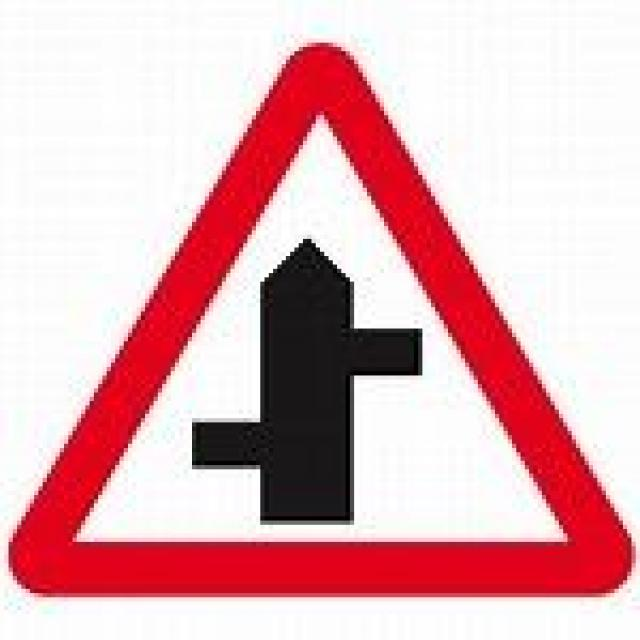STAGGERED_INTERSECTION: (0, 36, 640, 608)
